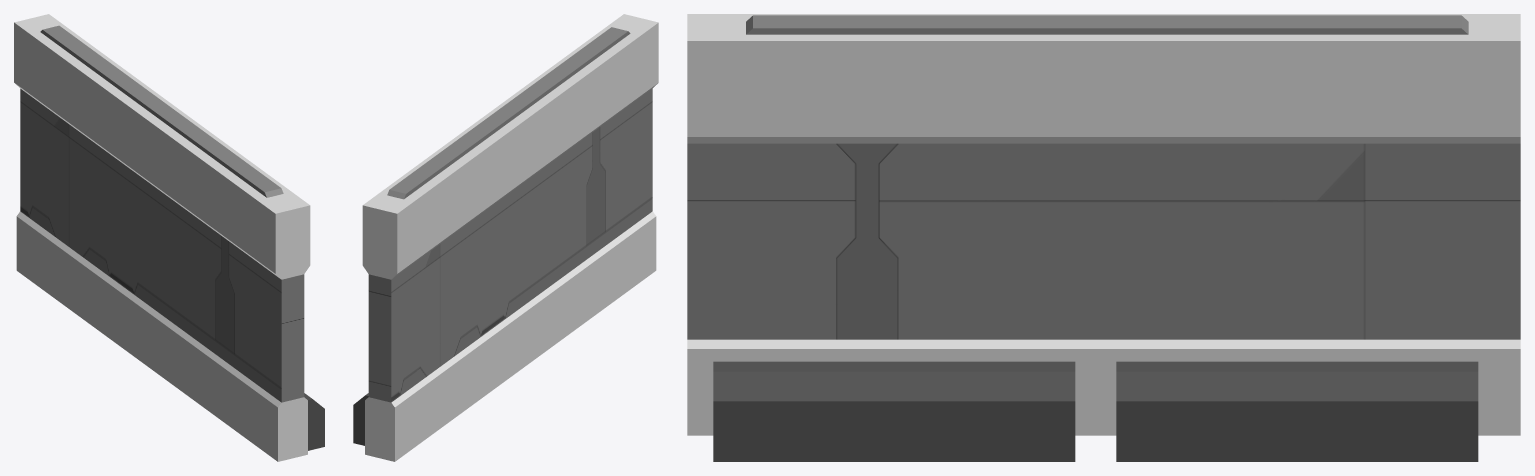
Rendered from SM_Wall_2x4_1.fbx.
The picture shows the model from 3 angles, left to right: view 1: azimuth 30°, elevation 25°; view 2: azimuth 150°, elevation 25°; view 3: azimuth 270°, elevation 25°; orthographic projection. The views are drawn at different scales.
Visible parts, largest first — view 1: SM_Wall_2x4_1; view 2: SM_Wall_2x4_1; view 3: SM_Wall_2x4_1.
Part boxes in pixels (<box>): SM_Wall_2x4_1: <box>14,14,324,461</box>; SM_Wall_2x4_1: <box>353,14,658,461</box>; SM_Wall_2x4_1: <box>687,14,1520,461</box>.
Size of the model in its own units: 50.77 by 217 by 400.
